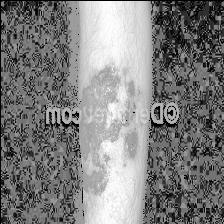Toxin: (80, 121, 117, 197), (80, 66, 136, 106), (120, 124, 138, 160)
